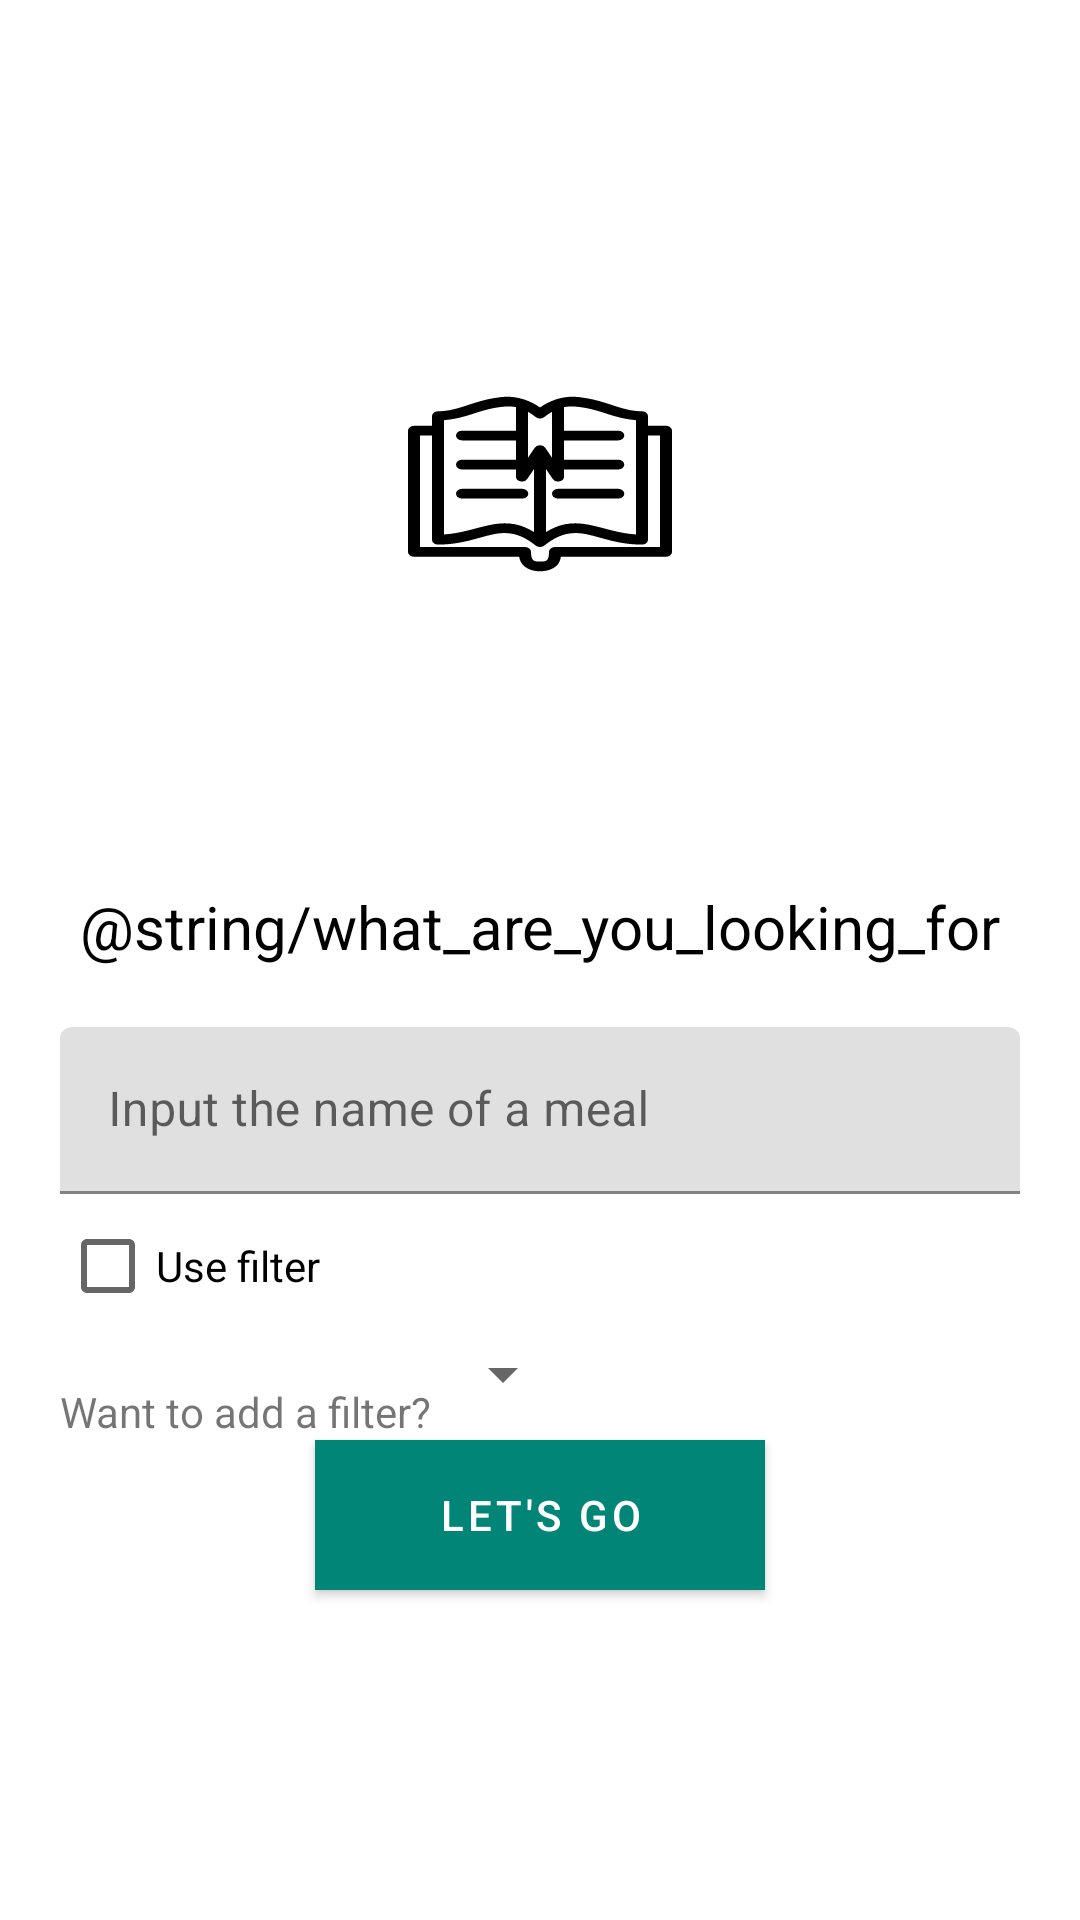

Named icons in this screenshot (1080 x 1920) and their bounding boxes, (x1, y1, x2, y2):
noun recipe book: (408, 396, 672, 572)
